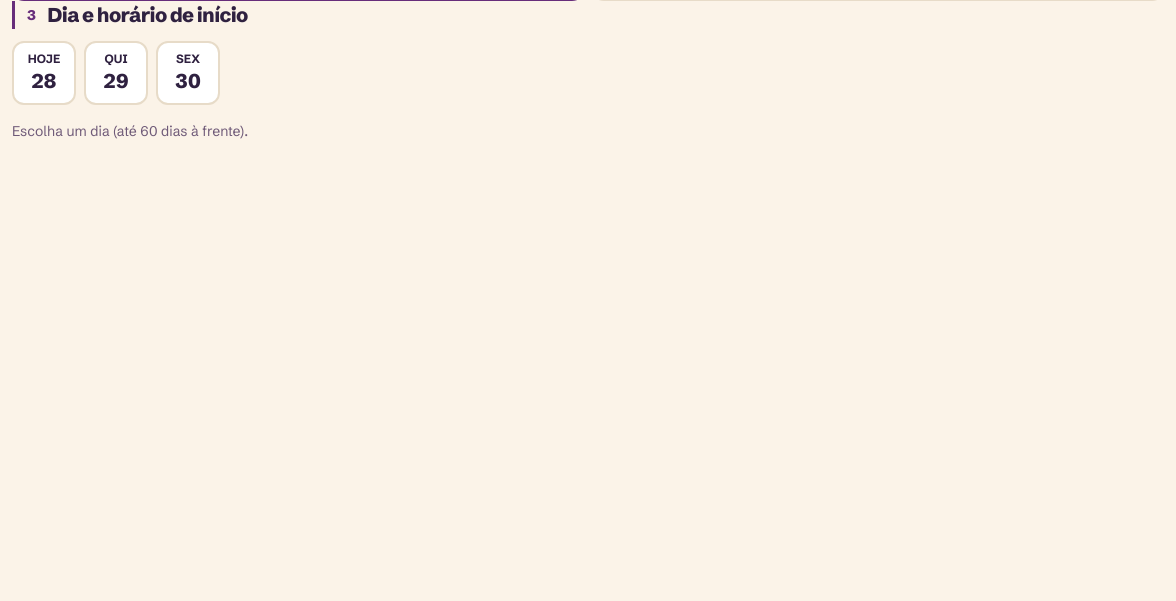
Test: CartFlow: um logo após o outro › se o horário foi perdido, mostra o motivo e volta a escolher
Click the button with aria-label "Dia 29/10": (116, 73) [84,41,148,105]
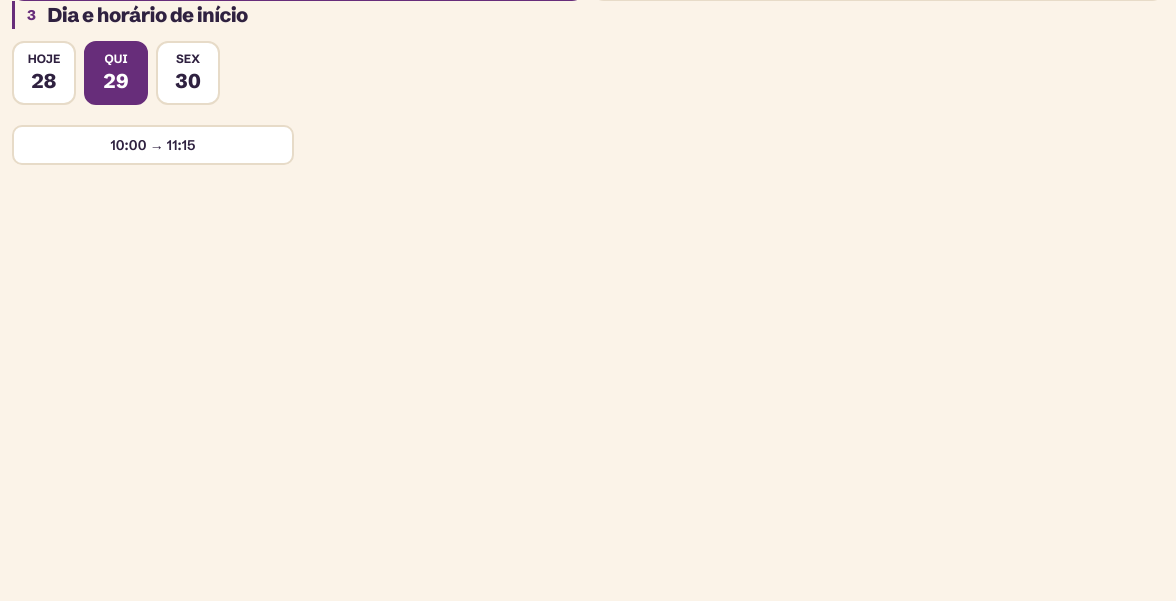
Click the button named "Começar às 10:00": (153, 145) [12,125,294,165]
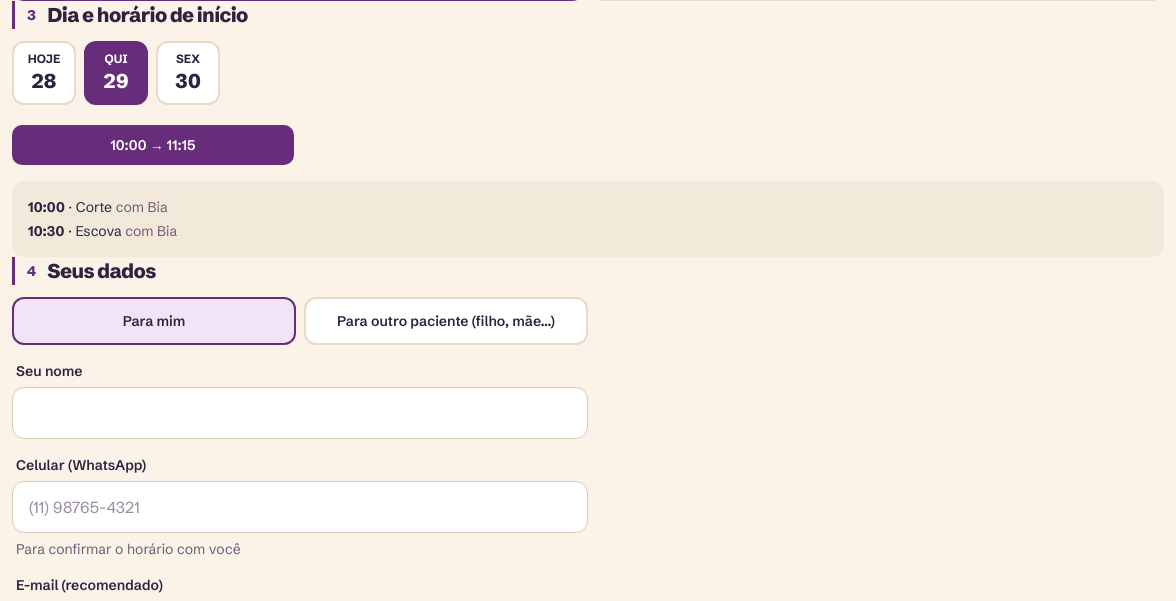
In the field labelled "Seu nome": (300, 413) [29,388,571,438], type "Ana"
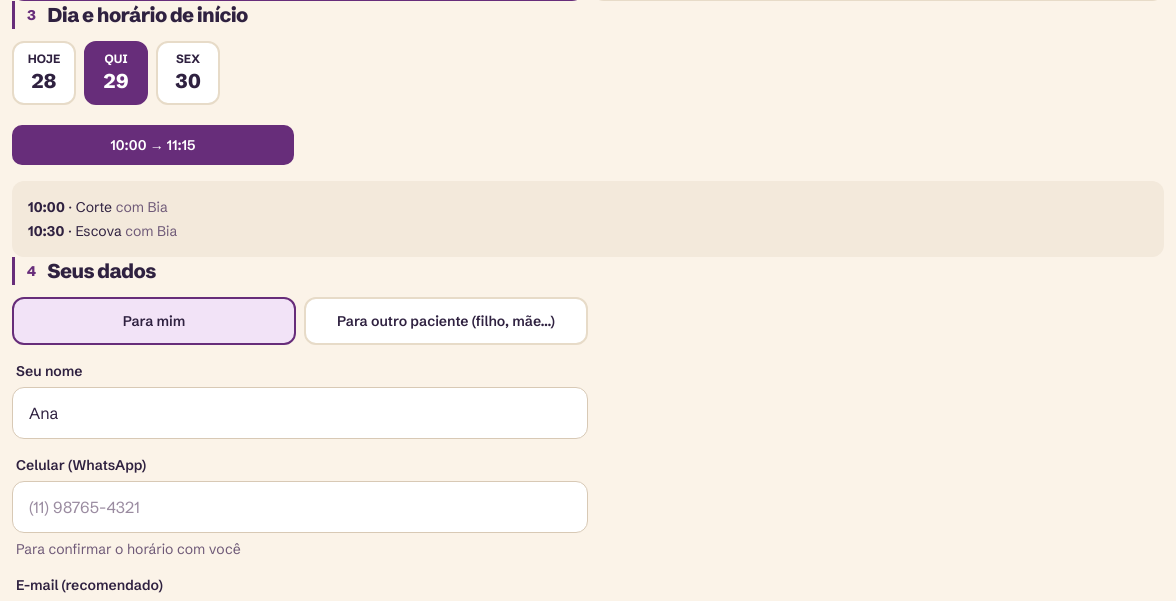
In the field labelled "Celular (WhatsApp)": (300, 507) [29,482,571,532], type "11988887777"
(page scrolled)
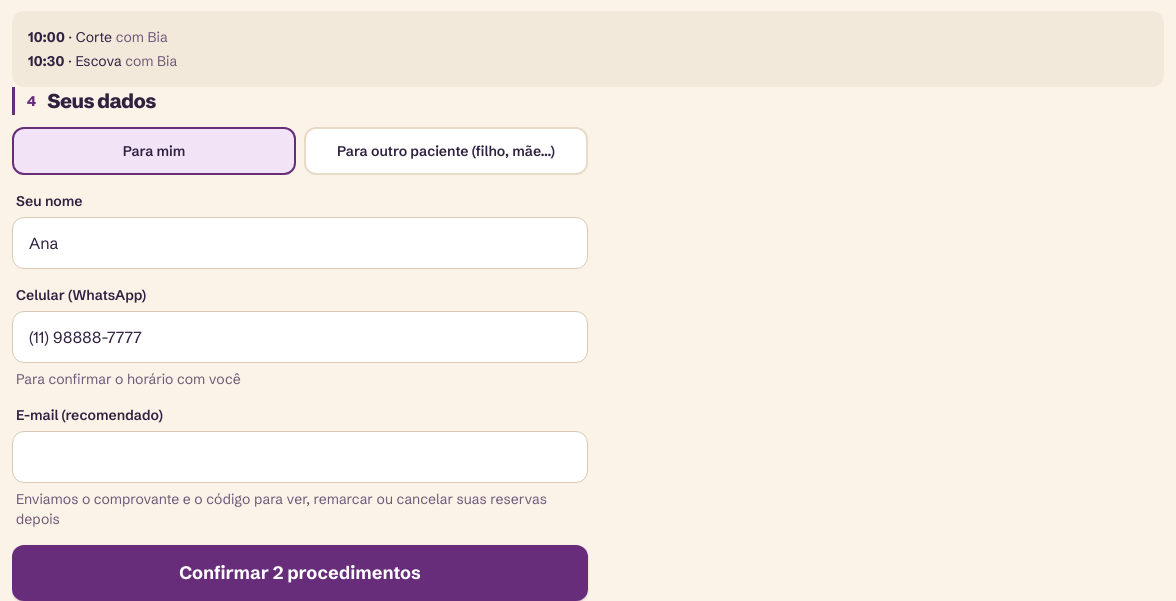
Click the button "Confirmar 2 procedimentos": (300, 573) [12,545,588,600]
(page scrolled)
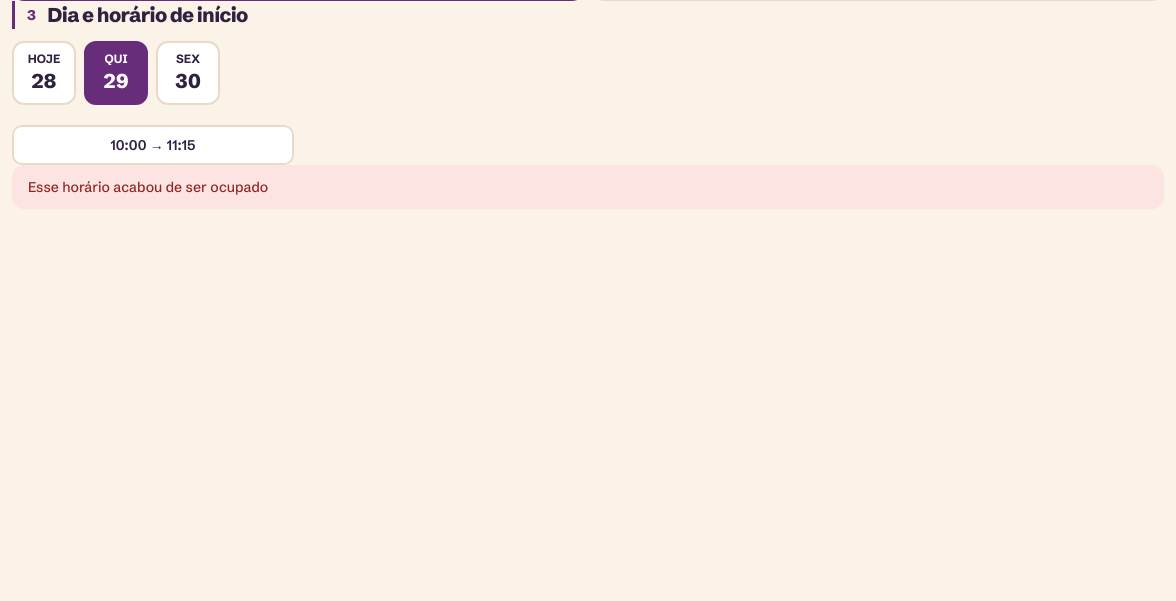
Result: the message reads "Esse horário acabou de ser ocupado" at [28,178,268,196]
Result: the heading "Seus dados" is gone
